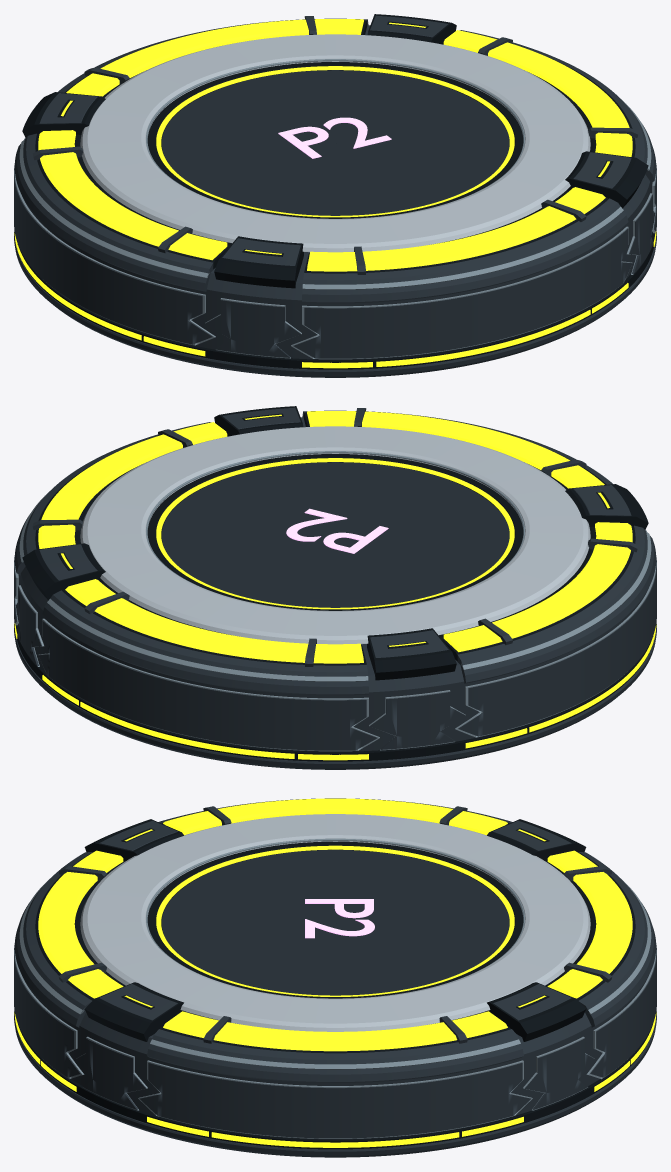
The model's file is Bouncer.fbx.
3 views of the same model, one above another, from view 1: azimuth 30°, elevation 25°; view 2: azimuth 150°, elevation 25°; view 3: azimuth 270°, elevation 25° (orthographic).
Visible parts, largest first — view 1: SM_Puck_Bouncer_P2_HighDetail; view 2: SM_Puck_Bouncer_P2_HighDetail; view 3: SM_Puck_Bouncer_P2_HighDetail.
Boxes of the visible parts, <box> form: SM_Puck_Bouncer_P2_HighDetail: <box>14,14,656,377</box>; SM_Puck_Bouncer_P2_HighDetail: <box>14,406,656,769</box>; SM_Puck_Bouncer_P2_HighDetail: <box>14,798,656,1157</box>.
Bounding box in the file's own units: 86.5 × 86.5 × 16.1.
